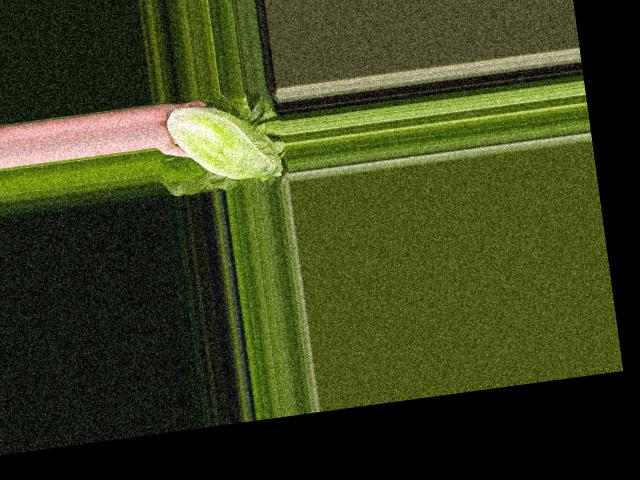lettuce: (162, 92, 284, 191)
